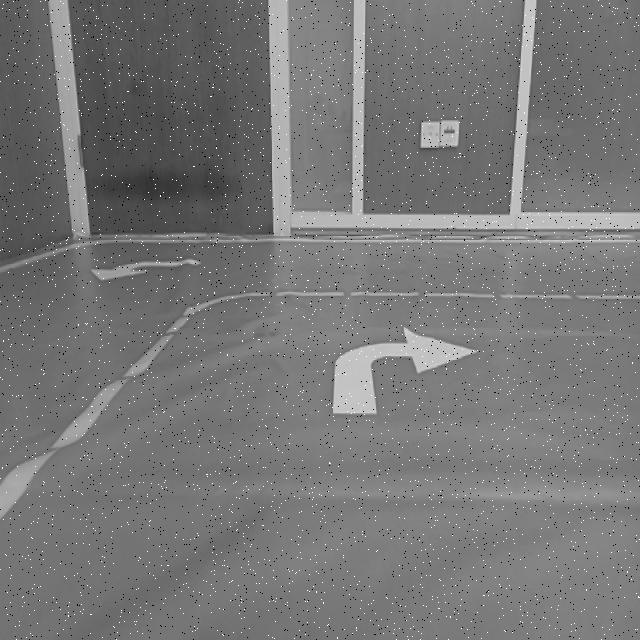left_lane: (0, 304, 197, 525)
